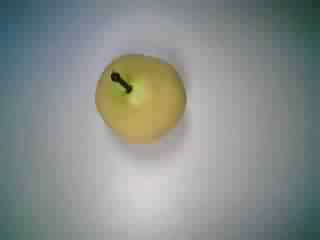pear: (86, 50, 196, 153)
